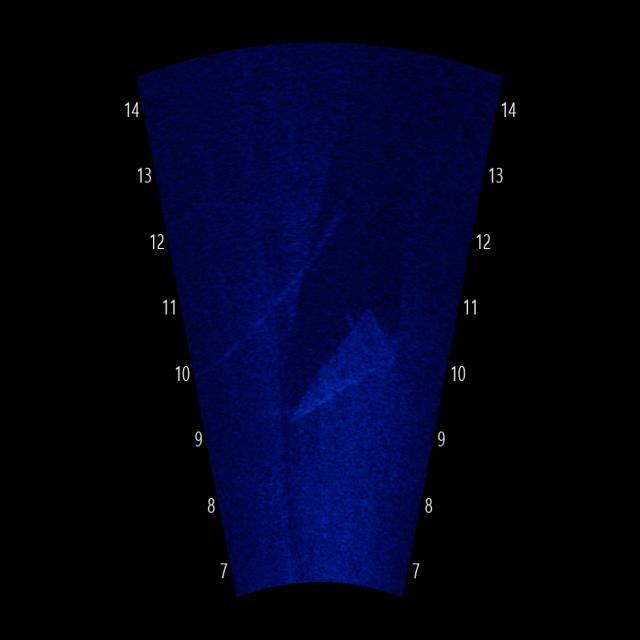triangle: (289, 290, 408, 429)
